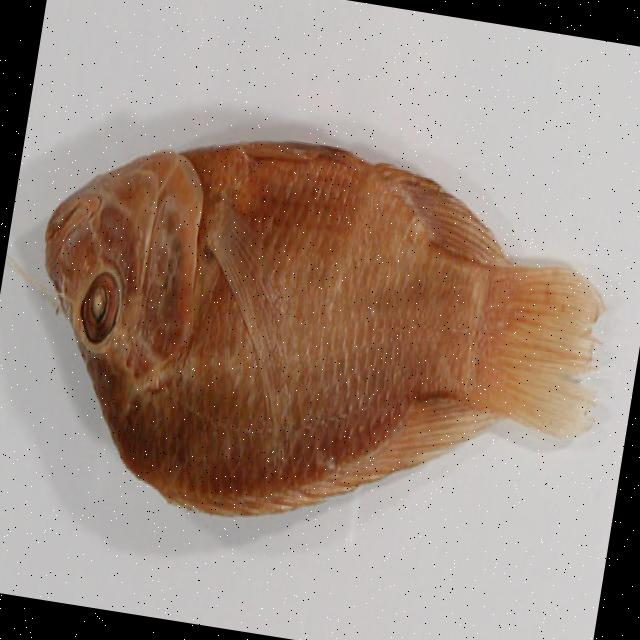ikan: (3, 103, 631, 577)
